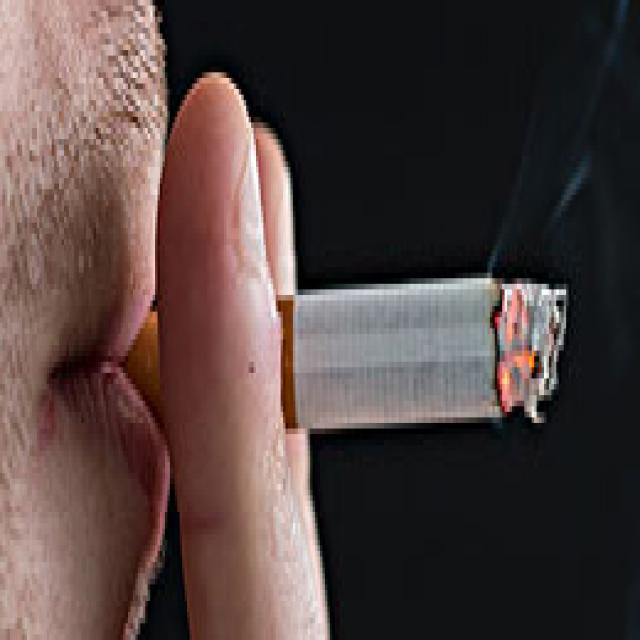smoking: (128, 281, 567, 435)
